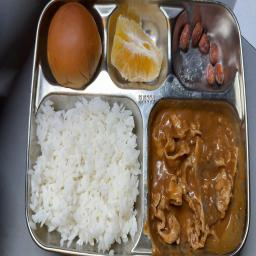100_beef: (149, 100, 240, 251)
100_bread: (40, 4, 104, 86)
100_orange: (109, 7, 167, 88)
100_rice: (36, 94, 140, 249)
25_nuts: (174, 15, 234, 89)
